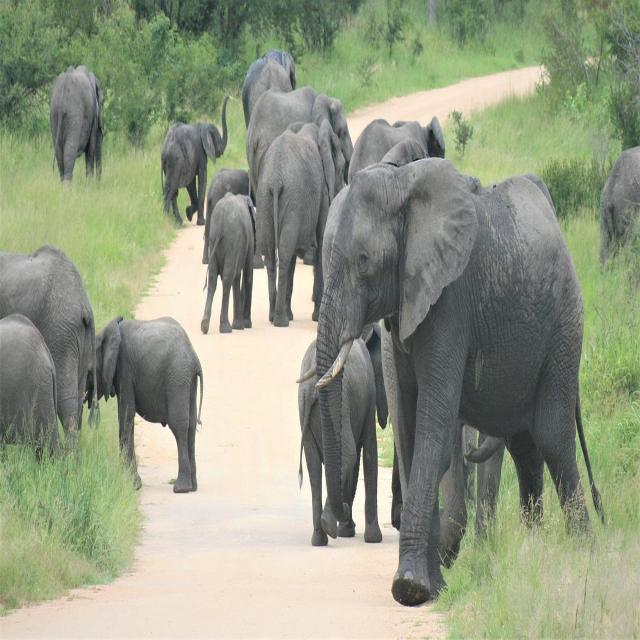Elephant: (310, 162, 606, 604), (96, 312, 200, 495), (157, 102, 233, 216), (47, 67, 107, 191)
